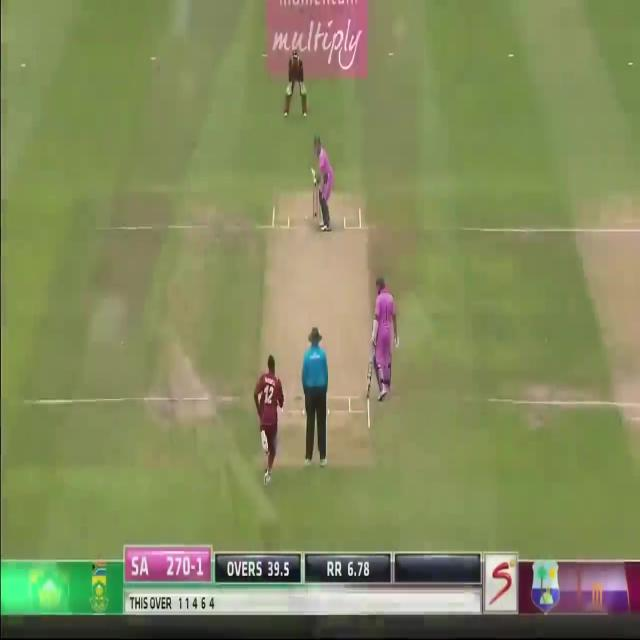Ball: (369, 272, 398, 401), (312, 137, 335, 229)
Fielder: (252, 352, 285, 476), (287, 38, 305, 116)
Umpire: (301, 324, 330, 471)
